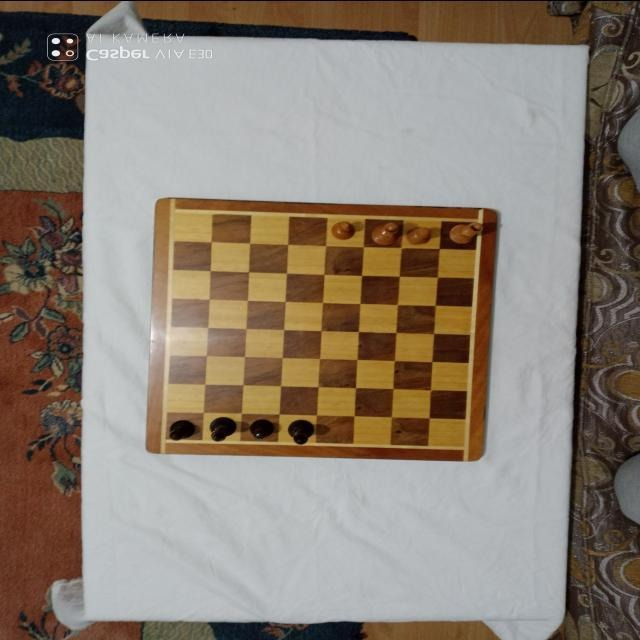black-bishop: (206, 415, 237, 441), (285, 418, 314, 444)
black-pawn: (168, 419, 196, 441), (248, 418, 275, 438)
white-bishop: (448, 220, 484, 243), (370, 221, 400, 245)
white-pawn: (405, 224, 432, 244), (331, 219, 357, 239)
